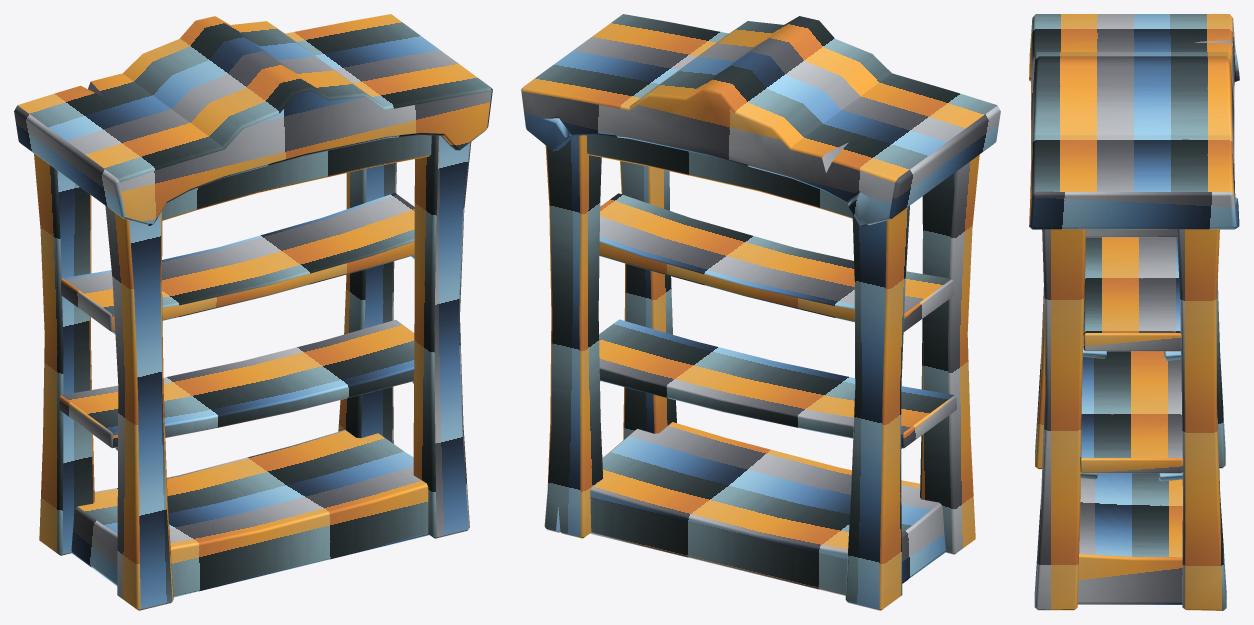
Rendered from CharSkyKid_Prop_AP10Bookshelf_02.glb.
3 renders of one model, left to right at view 1: azimuth 30°, elevation 25°; view 2: azimuth 150°, elevation 25°; view 3: azimuth 270°, elevation 25°, orthographic. The views are drawn at different scales.
Visible parts, largest first — view 1: CharSkyKid_Prop_AP10Bookshelf_02; view 2: CharSkyKid_Prop_AP10Bookshelf_02; view 3: CharSkyKid_Prop_AP10Bookshelf_02.
Boxes of the visible parts, <box> form: CharSkyKid_Prop_AP10Bookshelf_02: <box>14,14,492,610</box>; CharSkyKid_Prop_AP10Bookshelf_02: <box>521,14,1000,610</box>; CharSkyKid_Prop_AP10Bookshelf_02: <box>1029,14,1239,610</box>.
Size of the model in its own units: 1.45 by 1.76 by 0.7165.
Materials: 1 (1 with a texture image).
